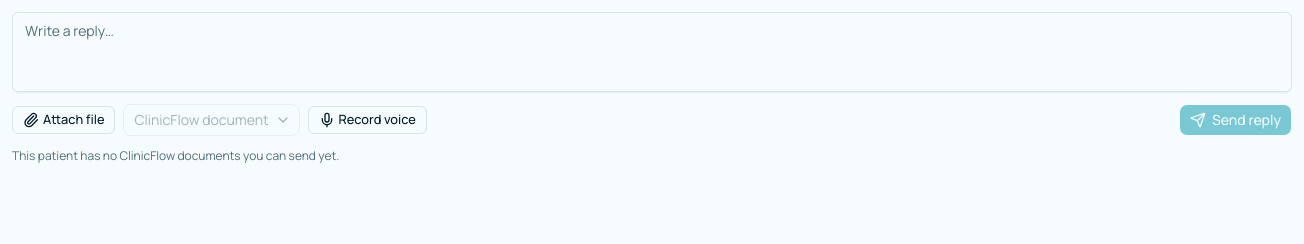
Test case: P8B Inbox composer › blocks a digitally silent default and directs the employee to another input
What coordinates should you click on to do the following:
click the button "Record voice"
I would click on:
 (367, 120)
Its box is [308,106,427,134].
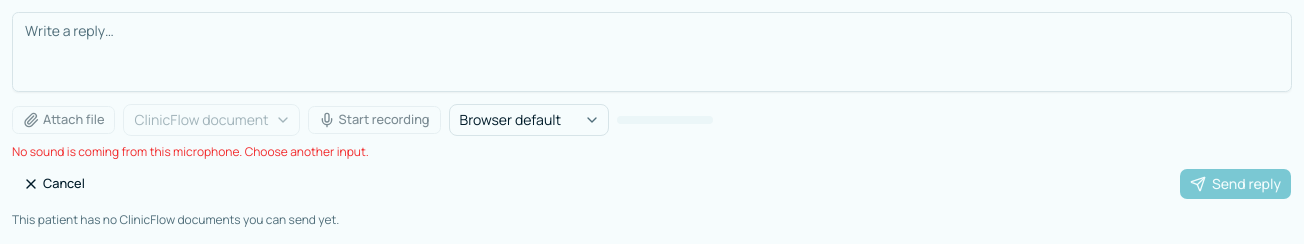
Now the text "No sound is coming from this microphone. Choose another input." is shown, box [12,143,369,160]
Now the button "Start recording" is disabled, box [308,106,441,134]
Now the dropdown named "Microphone input" is enabled, box [448,104,608,136]
